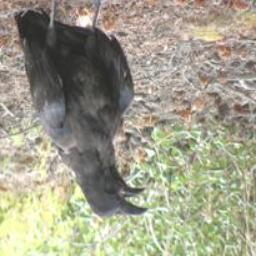Crow: (11, 0, 149, 220)
